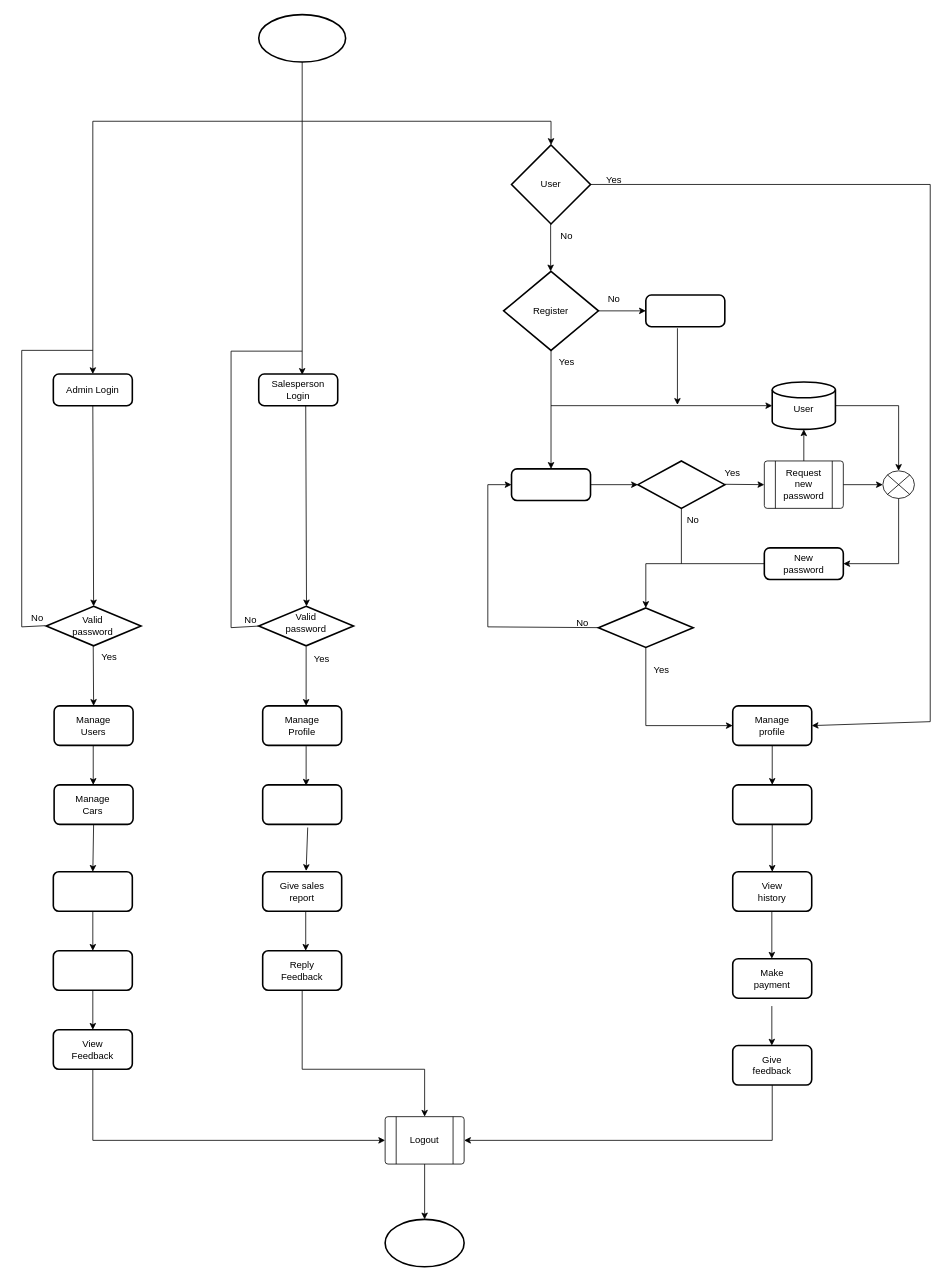
Image size: 950x1281. Some labels were removed from this diagram. Each missing label, with the centre of its shape:
Correct password: the point at 645,627
End: the point at 424,1242
Forget Password: the point at 681,484
Login: the point at 550,484
Look for desire car: the point at 772,804
Manage Salespersons: the point at 92,891
New user: the point at 685,310
Process Sale Transaction: the point at 301,804
Start: the point at 302,37
View Sales Reports: the point at 92,970
